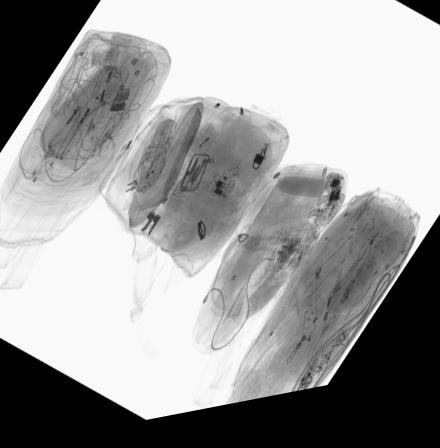Scissors: (183, 167, 204, 197)
